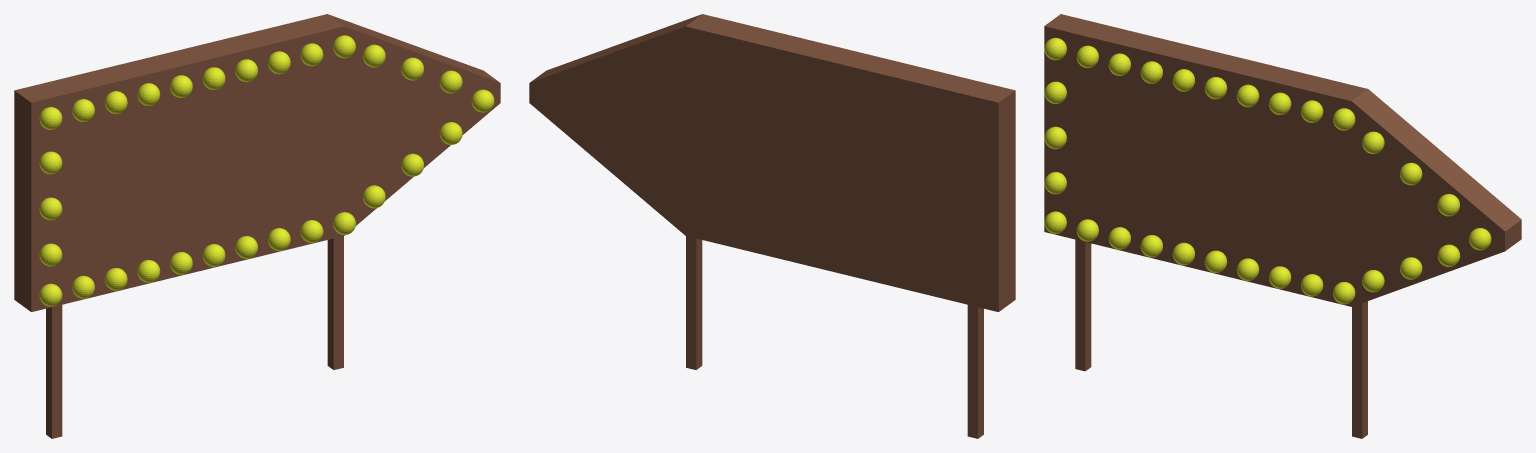
Rendered from Sign.fbx.
3 renders of one model, left to right at view 1: azimuth 30°, elevation 25°; view 2: azimuth 150°, elevation 25°; view 3: azimuth 330°, elevation 25°, orthographic.
Parts seen in each view (by area): view 1: Cube.010; view 2: Cube.010; view 3: Cube.010.
Boxes of the visible parts, bbox=[...] form: Cube.010: bbox=[14, 14, 500, 438]; Cube.010: bbox=[529, 14, 1015, 438]; Cube.010: bbox=[1044, 14, 1521, 438].
Size of the model in its own units: 3 by 2.12 by 0.2944.
